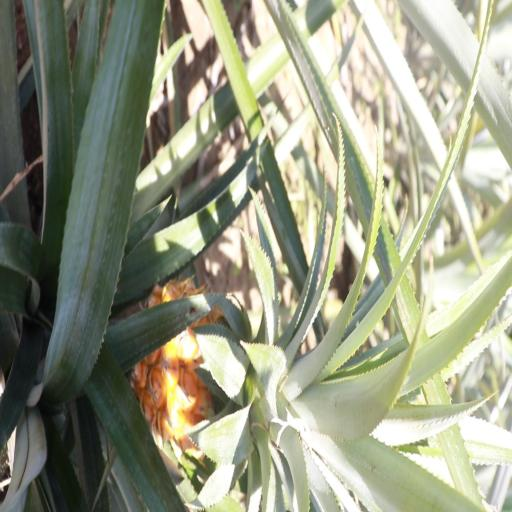Pineapple - v8 v1: (124, 284, 413, 480)
